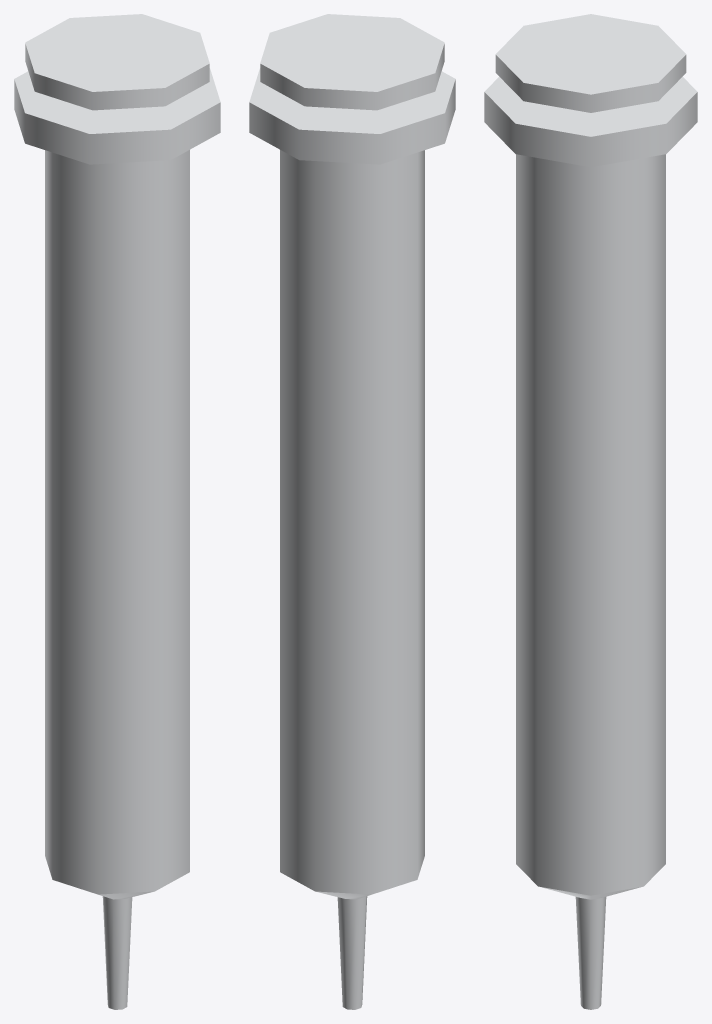
Rendered from syringe_syringe.glb.
3 renders of one model, left to right at view 1: azimuth 30°, elevation 25°; view 2: azimuth 150°, elevation 25°; view 3: azimuth 270°, elevation 25°, orthographic.
Visible parts, largest first — view 1: syringe_syringe, syringe_syringe_plunger; view 2: syringe_syringe, syringe_syringe_plunger; view 3: syringe_syringe, syringe_syringe_plunger.
Part boxes in pixels (box(x1,y1,x2,y2)): syringe_syringe: box(14, 68, 220, 1009); syringe_syringe_plunger: box(25, 14, 209, 110); syringe_syringe: box(249, 68, 455, 1009); syringe_syringe_plunger: box(260, 14, 444, 110); syringe_syringe: box(484, 76, 697, 1009); syringe_syringe_plunger: box(495, 14, 686, 112).
Bounding box in the file's own units: 2.85 × 14.01 × 2.85.
Materials: 2 (2 with a texture image).
